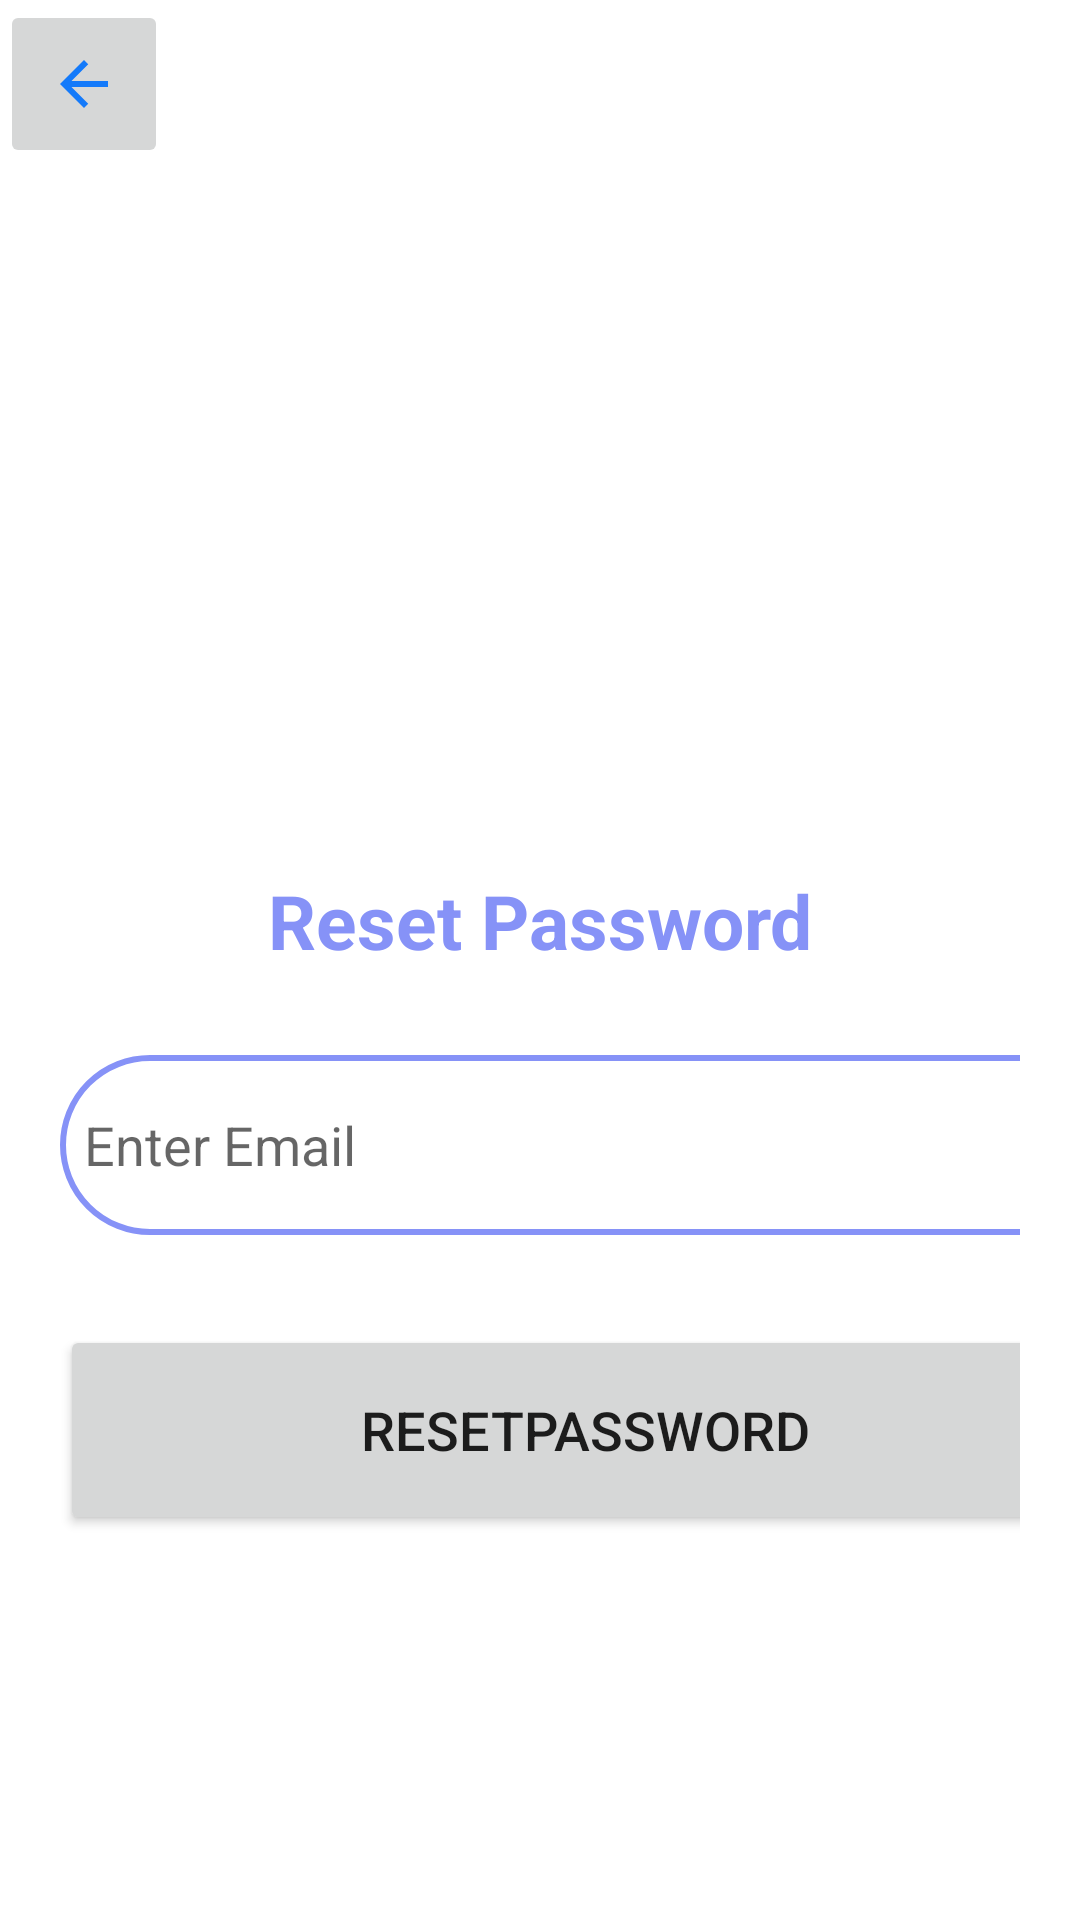

Icons on this 1080w x 1920h Android screen, each with the point to tap as point (x, y):
arrow back: point (84, 84)
